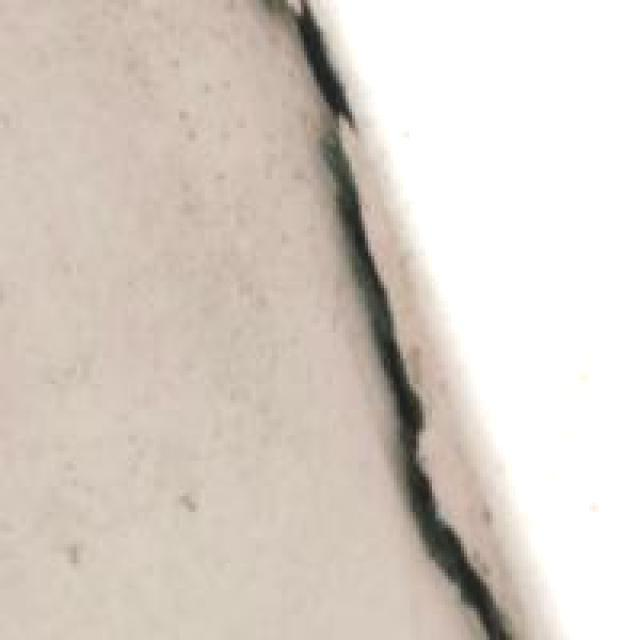crack: (224, 0, 552, 640)
